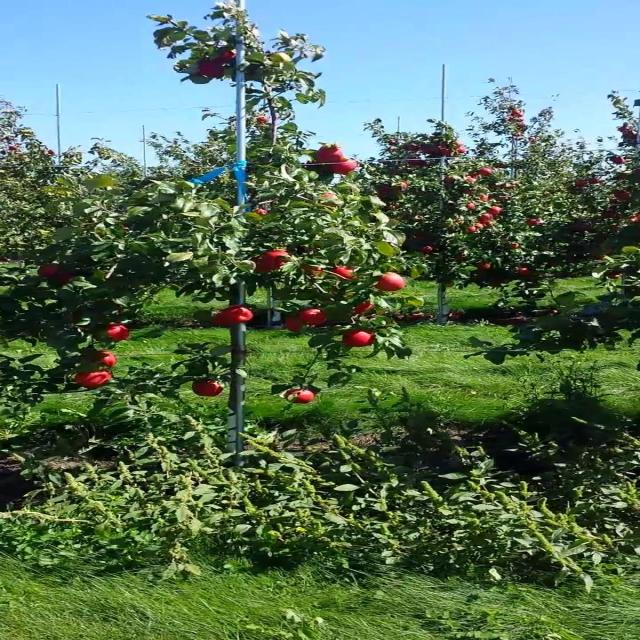apple: (255, 252, 292, 274), (77, 372, 114, 389), (376, 272, 405, 292), (220, 308, 256, 324), (298, 308, 327, 326), (106, 324, 132, 344), (198, 64, 228, 80), (348, 332, 377, 348), (319, 148, 347, 163), (333, 160, 359, 176), (284, 392, 318, 404), (319, 192, 340, 210), (99, 352, 119, 368), (198, 384, 222, 397), (212, 52, 236, 64), (42, 264, 62, 278), (333, 268, 356, 280), (269, 52, 292, 64), (212, 312, 229, 328), (284, 320, 306, 332), (56, 272, 75, 285), (305, 164, 331, 173), (355, 304, 375, 315), (212, 316, 228, 328), (305, 268, 325, 276)
